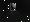person: (8, 5, 16, 15)
